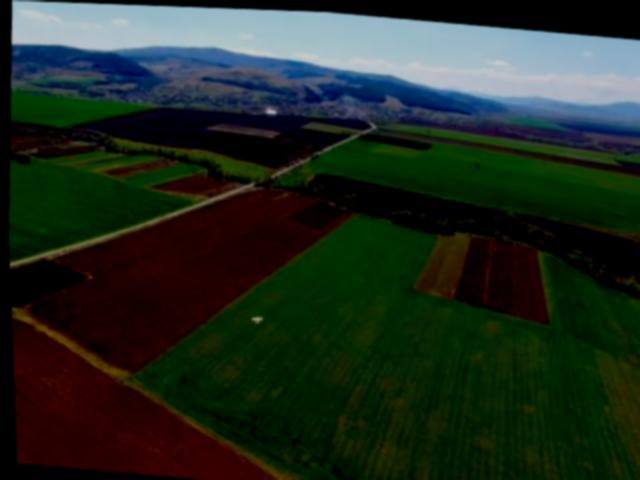uav: (246, 306, 265, 326)
